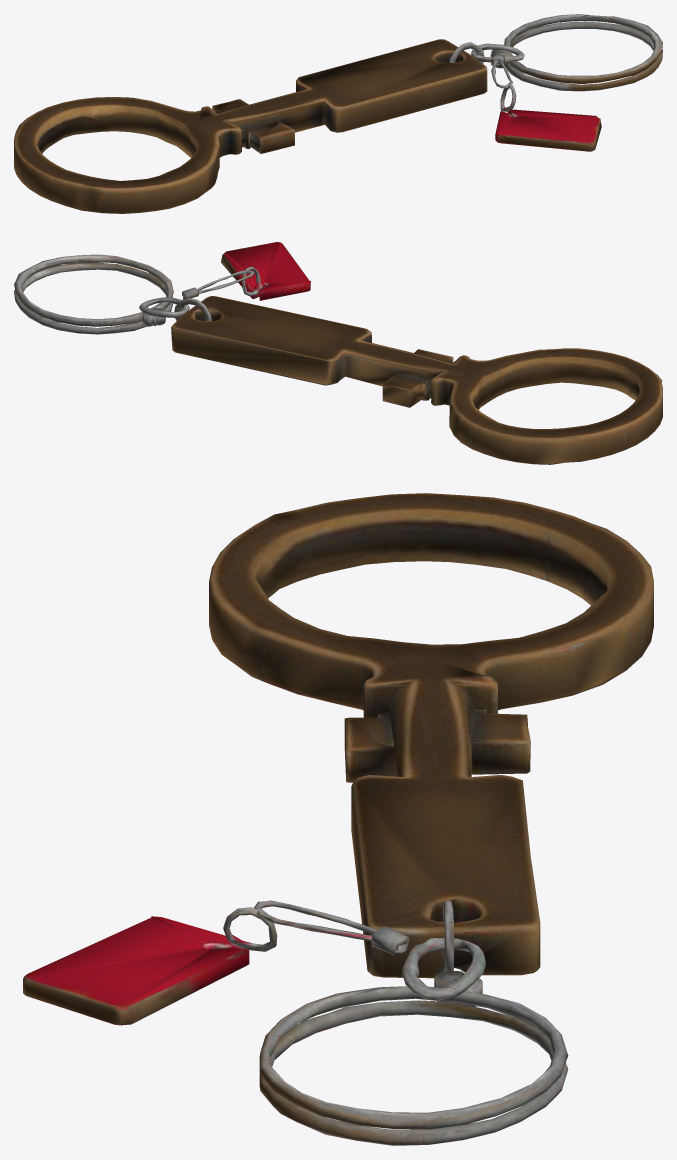
File: reactor-key.glb
3 views of the same model, one above another, from view 1: azimuth 30°, elevation 25°; view 2: azimuth 150°, elevation 25°; view 3: azimuth 270°, elevation 25° (orthographic). The views are drawn at different scales.
Parts seen in each view (by area): view 1: reactor-key; view 2: reactor-key; view 3: reactor-key.
Part boxes in pixels (x1=…): reactor-key: x1=14, y1=14, x2=662, y2=213; reactor-key: x1=14, y1=242, x2=662, y2=464; reactor-key: x1=23, y1=493, x2=653, y2=1145.
Size of the model in its own units: 0.13 by 0.00732 by 0.0573.
Materials: 1 (1 with a texture image).
